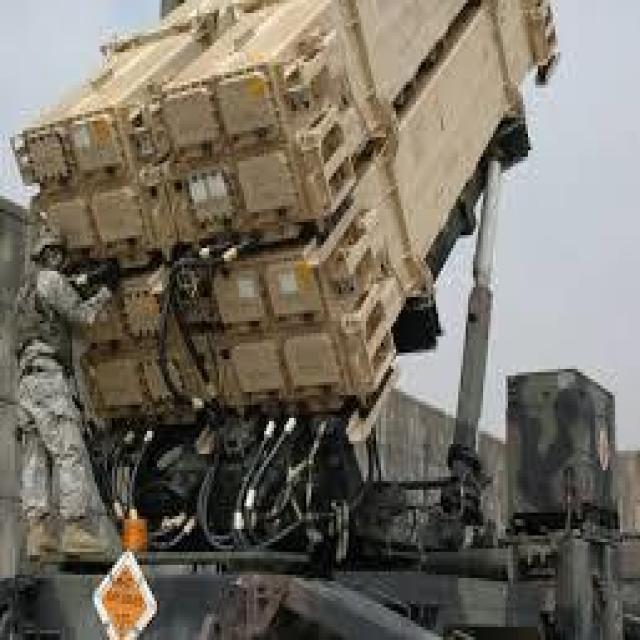Tanks: (25, 46, 550, 627)
